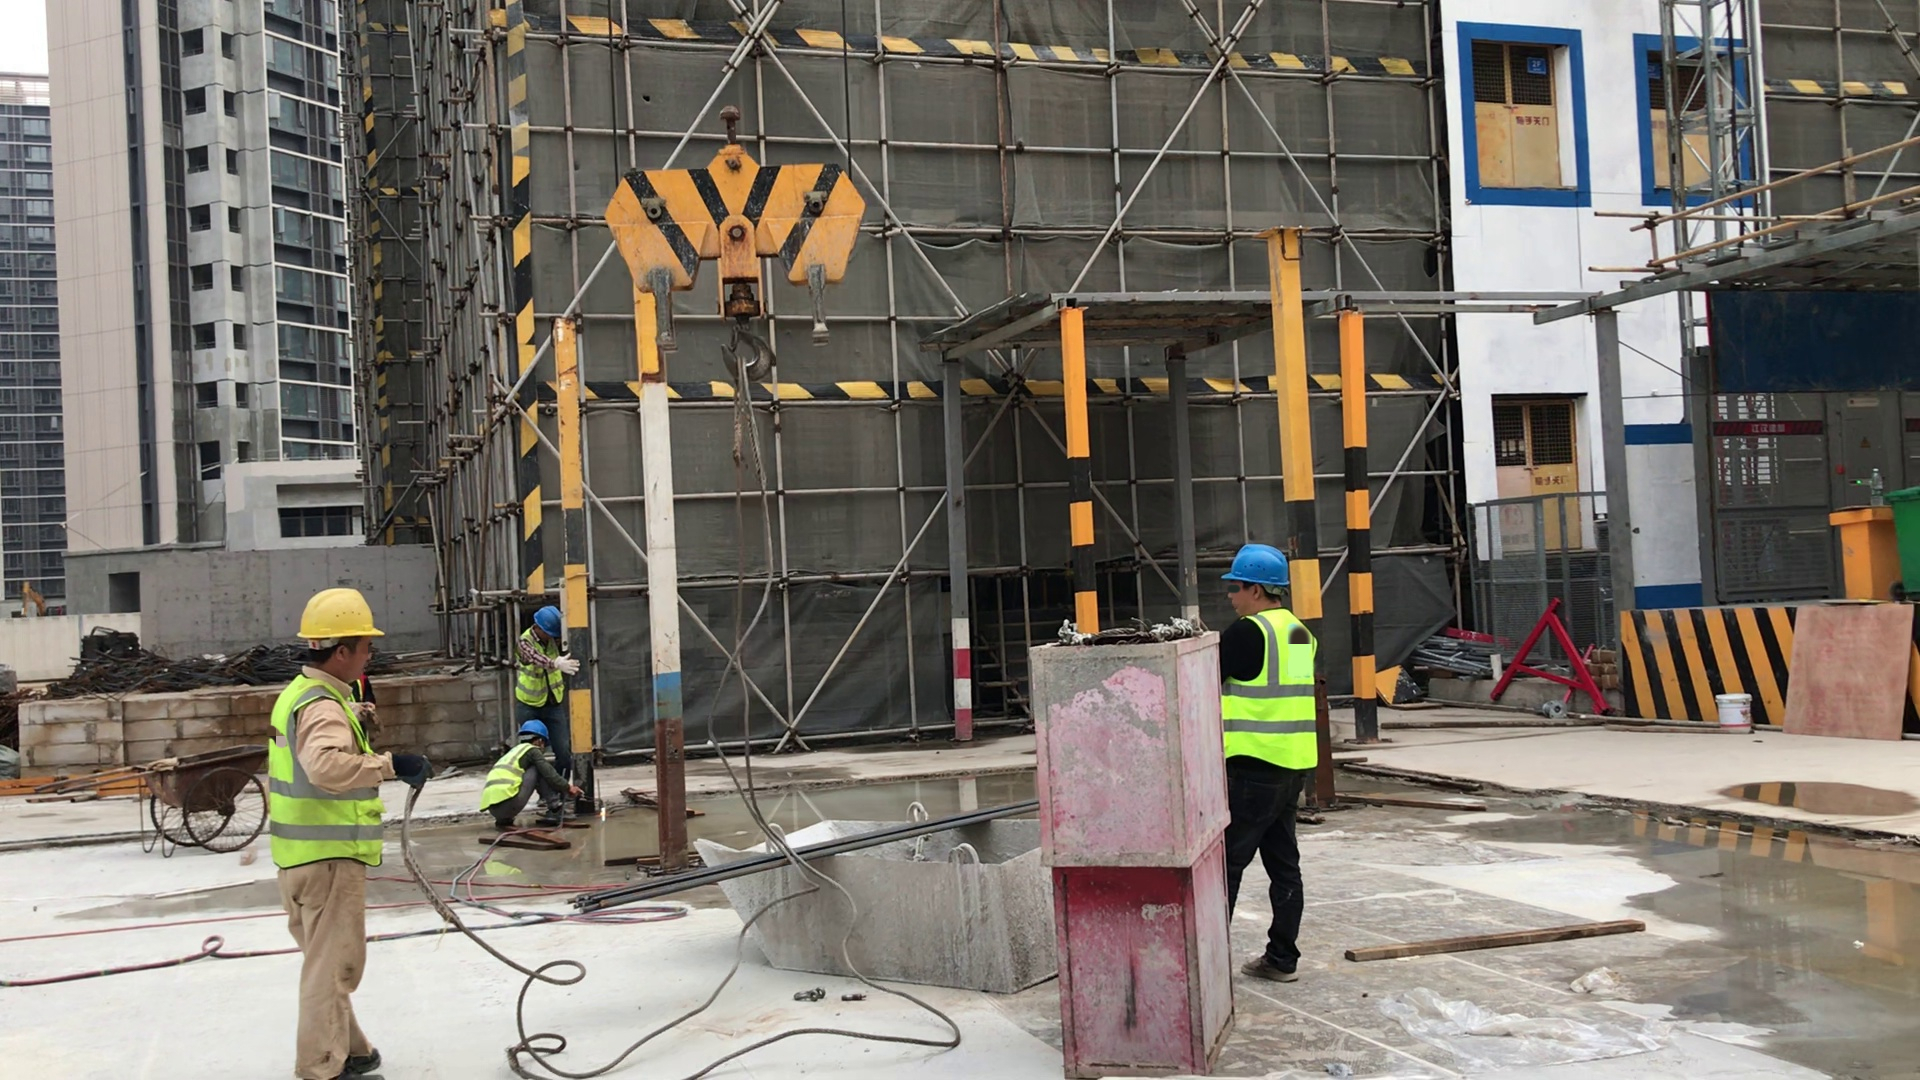handcart: (123, 730, 269, 862)
helmet: (285, 579, 394, 651), (1219, 542, 1304, 597), (529, 596, 563, 638), (513, 714, 554, 746)
hook: (587, 91, 921, 434)
hopper: (680, 792, 1058, 1007)
person: (262, 584, 412, 1080), (1212, 543, 1348, 1004), (483, 719, 583, 845), (519, 603, 590, 757)
rebar: (567, 804, 1045, 914)
vest: (266, 672, 388, 874), (1219, 606, 1329, 784), (474, 738, 542, 823), (508, 629, 569, 707)
